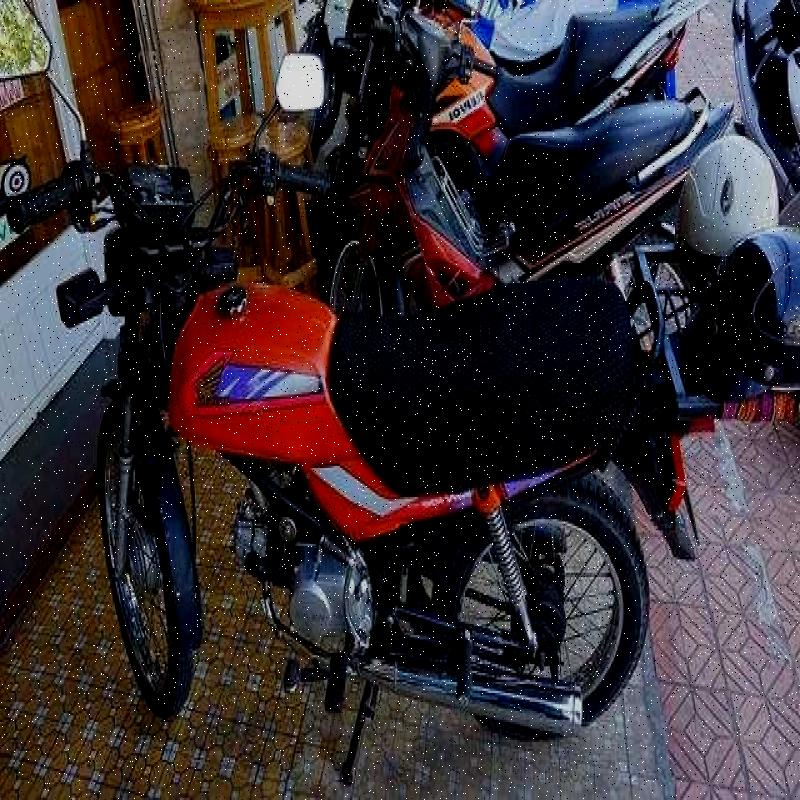bike: (0, 75, 661, 700)
